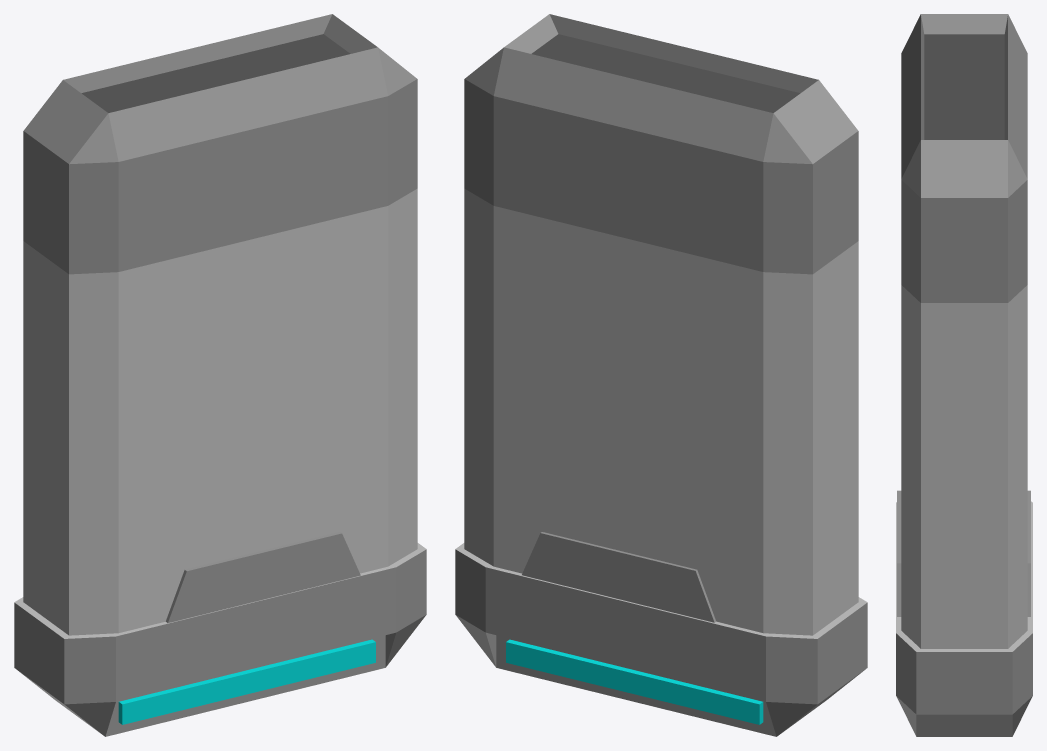
File: SM_Mag_L.fbx
3 views of the same model, side by side, from view 1: azimuth 30°, elevation 25°; view 2: azimuth 150°, elevation 25°; view 3: azimuth 270°, elevation 25° (orthographic). The views are drawn at different scales.
Parts seen in each view (by area): view 1: SM_Mag_L; view 2: SM_Mag_L; view 3: SM_Mag_L.
Boxes of the visible parts, x1=… form: SM_Mag_L: x1=14, y1=14, x2=426, y2=736; SM_Mag_L: x1=455, y1=14, x2=867, y2=736; SM_Mag_L: x1=896, y1=14, x2=1032, y2=736.
Bounding box in the file's own units: 10.02 × 16.41 × 3.42.
